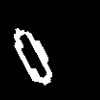chain: (14, 28, 51, 84)
